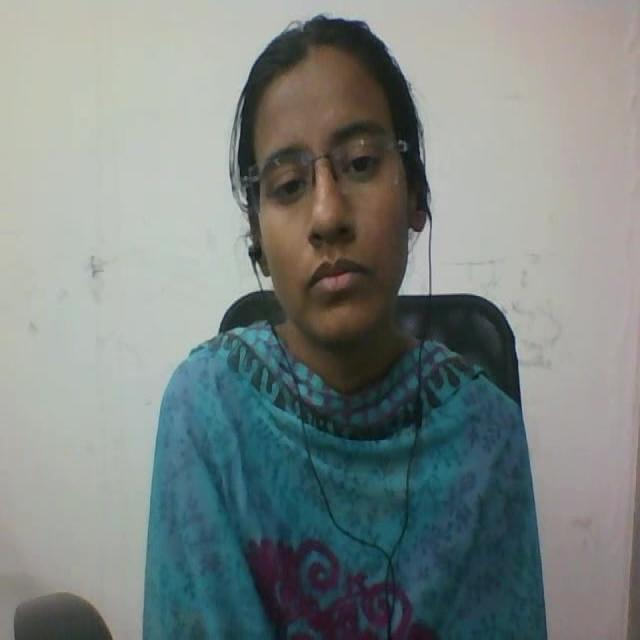Engaged: (218, 5, 450, 375)
